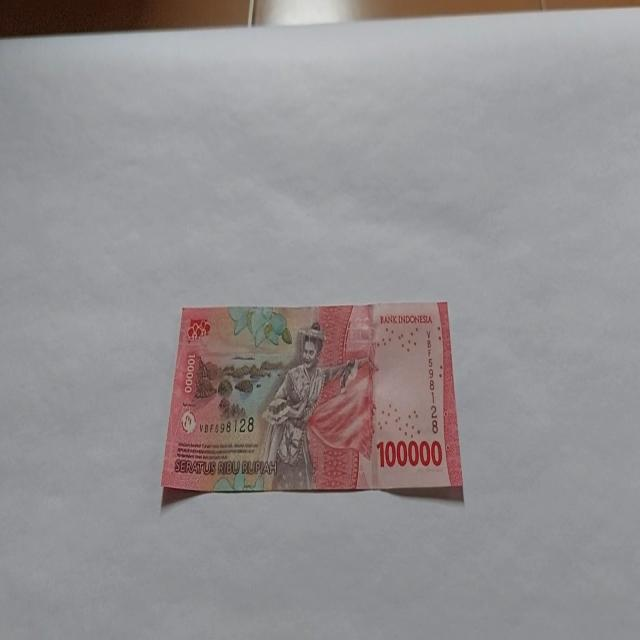seratus ribu rupiah: (160, 301, 464, 504), (258, 320, 358, 490)
